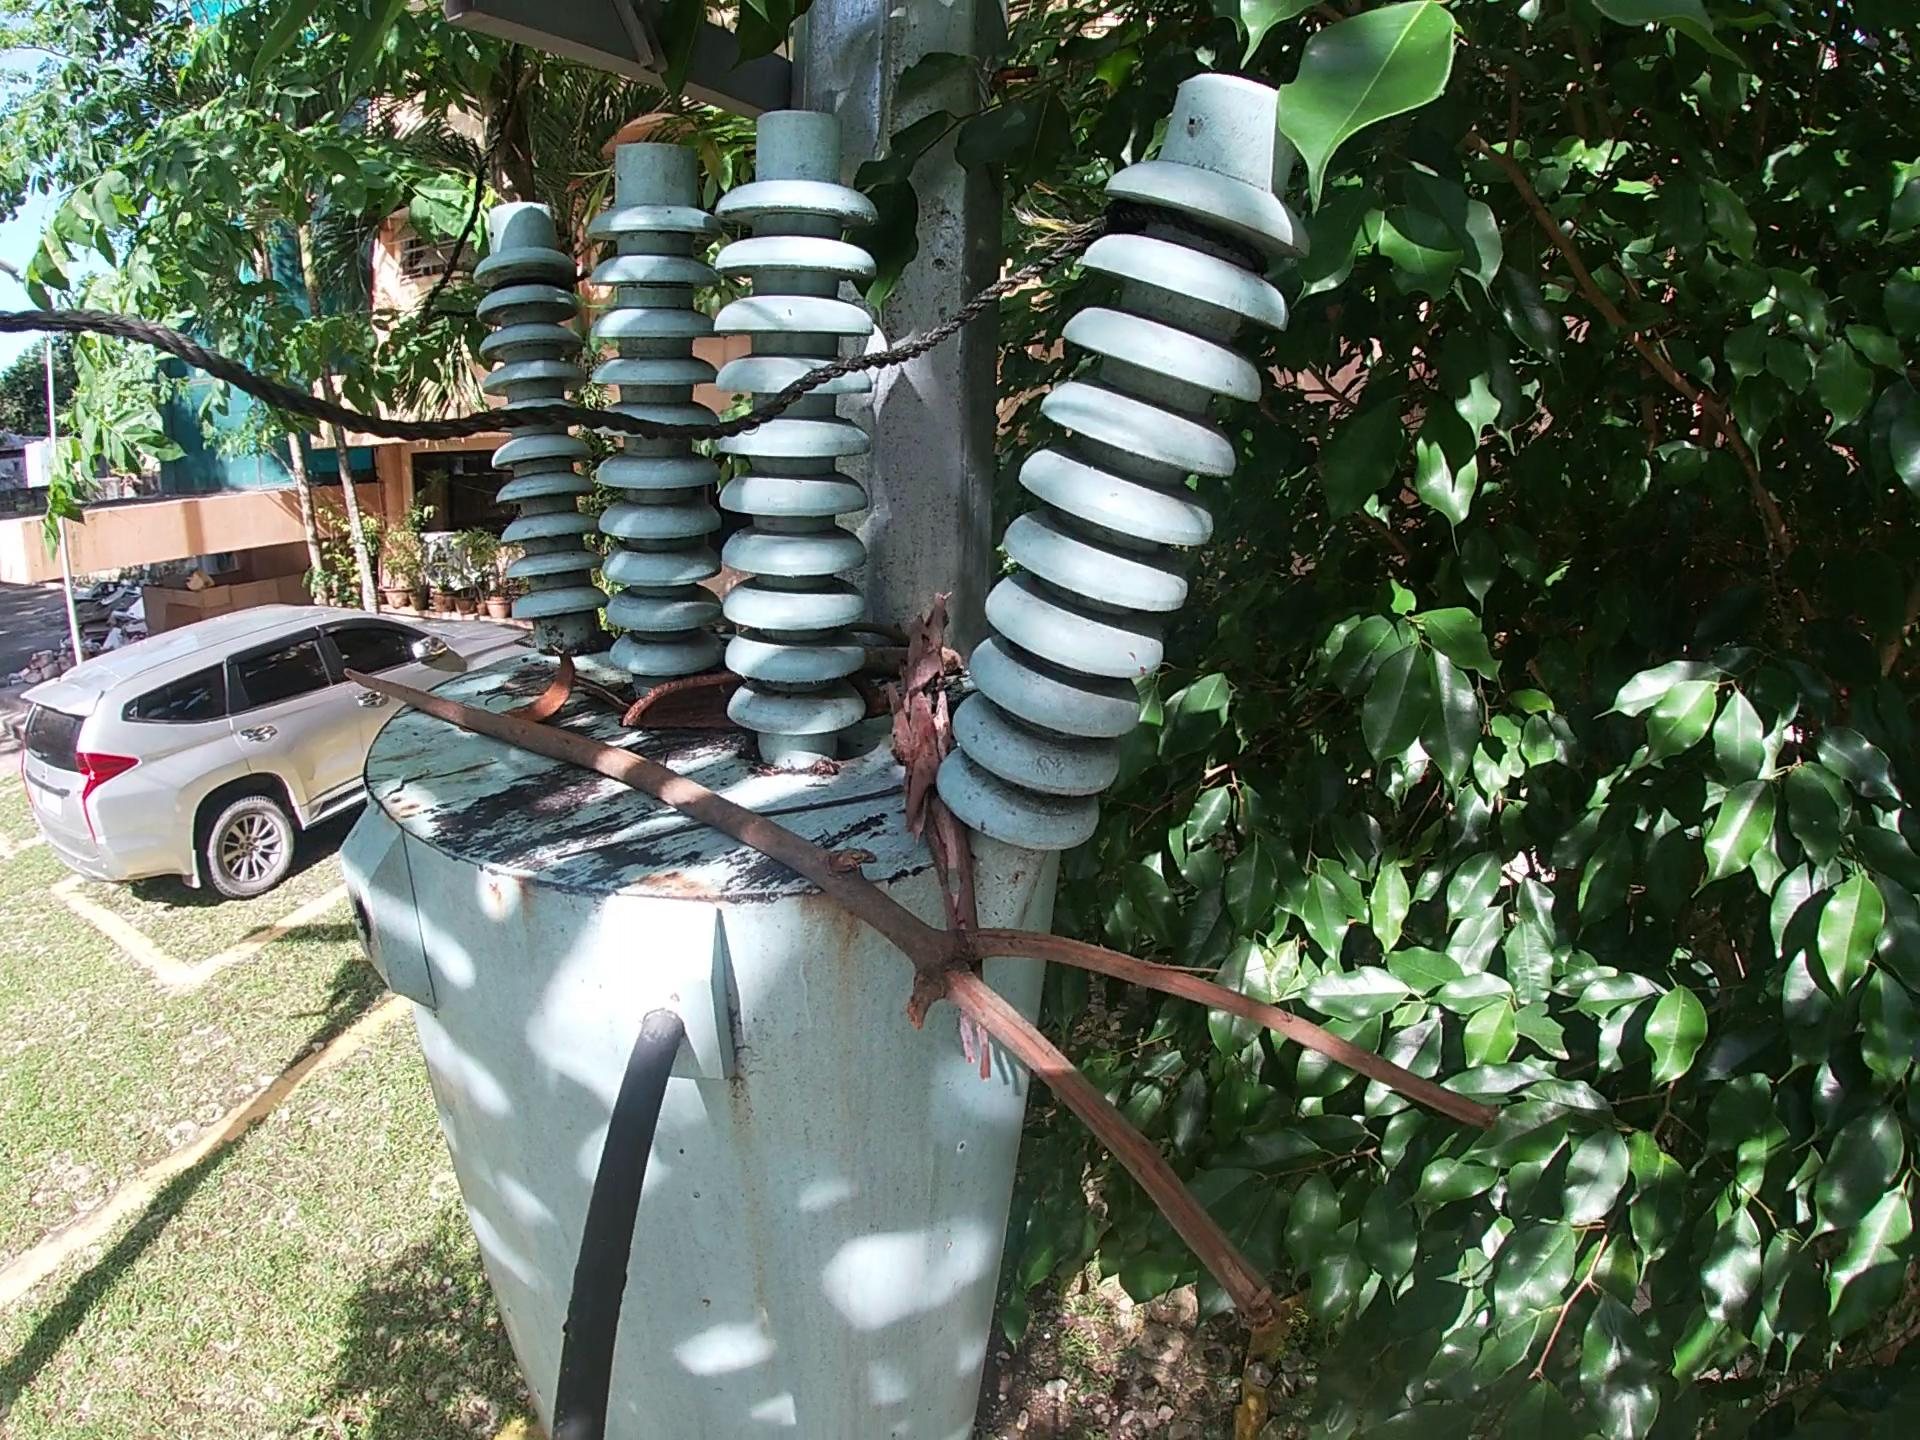mahogany fruit: (615, 666, 897, 749), (500, 643, 584, 725)
tree branch: (331, 653, 1507, 1337), (881, 584, 1002, 1094), (853, 641, 965, 685), (847, 619, 913, 647)
